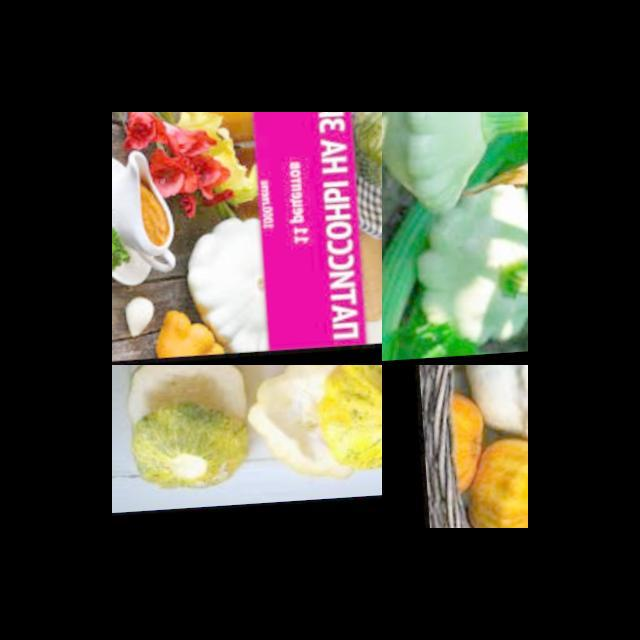garlic: (116, 297, 158, 344)
